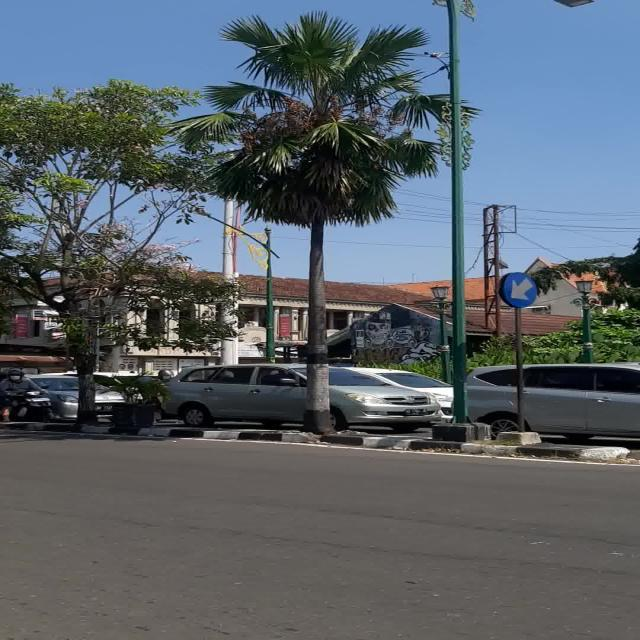Lajur Kiri: (504, 272, 536, 308)
